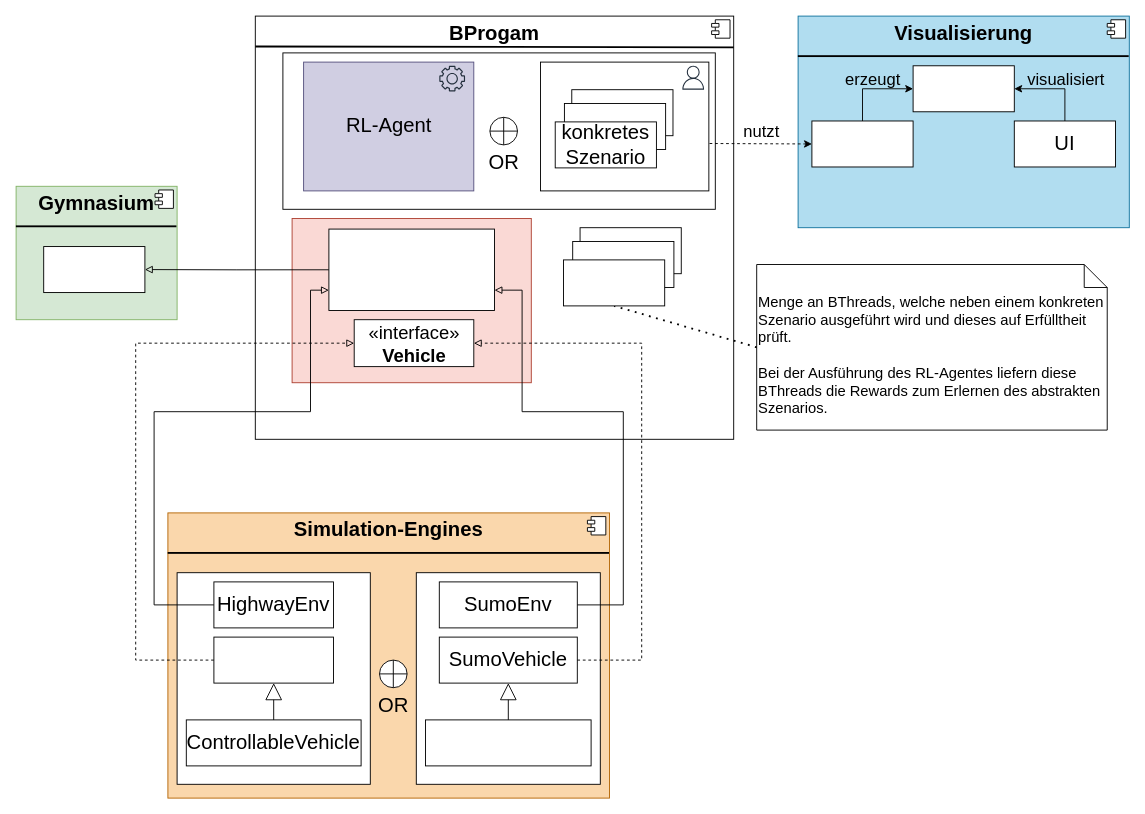
Image size: 1145x814. Some labels were removed from this diagram. Each missing label, with the centre of its shape:
"abstraktes Szenario" belongs at point 614,282.
"Log" belongs at point 963,88.
"Logger" belongs at point 862,143.
"SumoControllable Vehicle" belongs at point 508,742.
"Vehicle" belongs at point 273,659.
"«abstract» Driving Engine" belongs at point 411,269.
"«abstract» Env" belongs at point 94,269.
